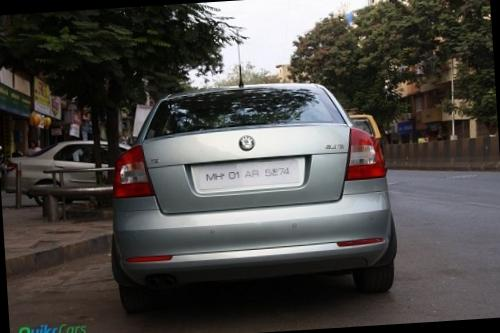plate: (183, 147, 310, 210)
